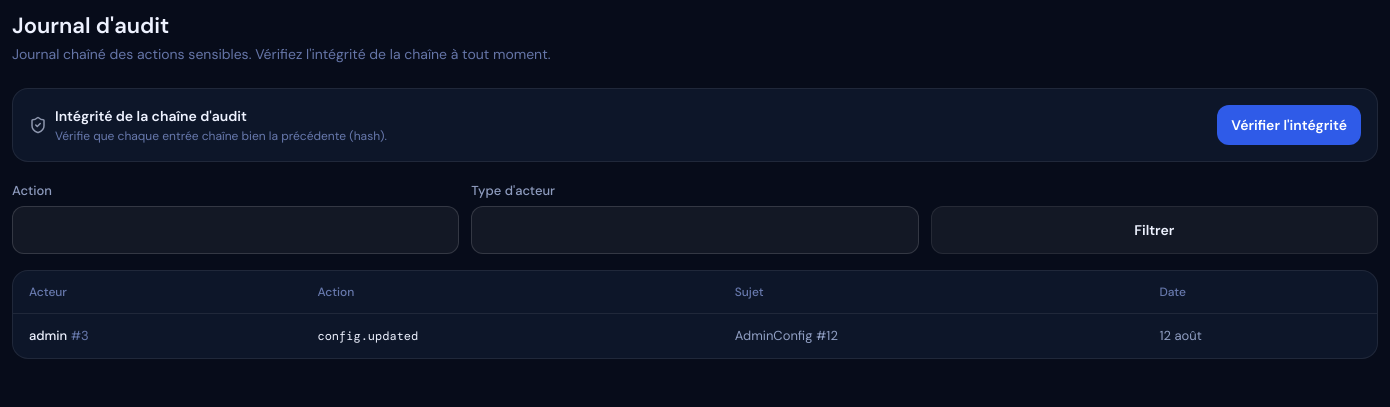
it: AuditPage — chain integrity › reports a BROKEN chain and names the break point
Expected: the text "config.updated" is shown, [301,314,719,358]
What coordinates should you click on to do the following:
click the button "Vérifier l'intégrité"
I would click on:
 (1289, 125)
Its box is [1217,105,1361,145].
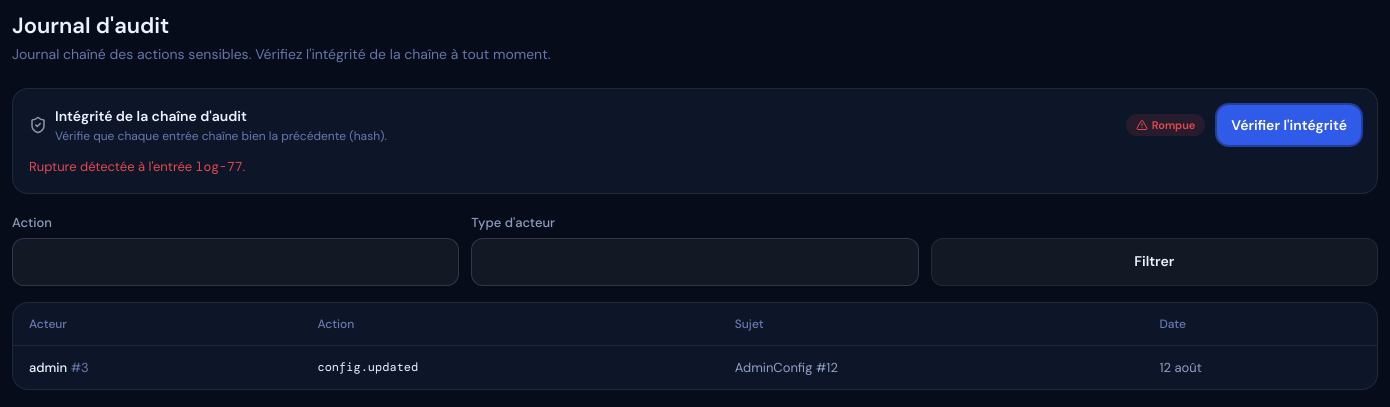
Expected: the text "Rompue" is shown, [1136,117,1195,133]
Expected: the text "log-77" is shown, [196,158,242,175]
